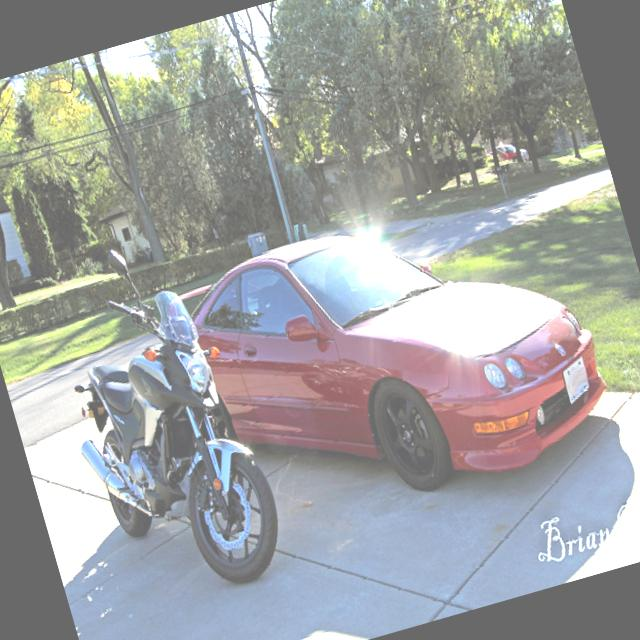Vehicle: (178, 170, 621, 544), (22, 215, 292, 610), (482, 139, 530, 173)
